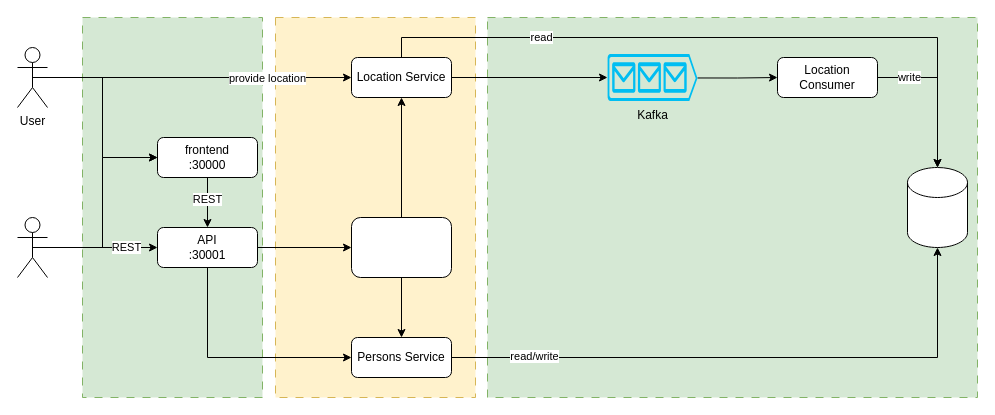
Image size: 995x415. Some labels were removed from this diagram. The shapes that lost their labels are listed below. From the top down, each one's centre as x and y in pixels, then its label:
[937,207]: Postgres
[32,247]: Dev
[401,247]: Connection Service
